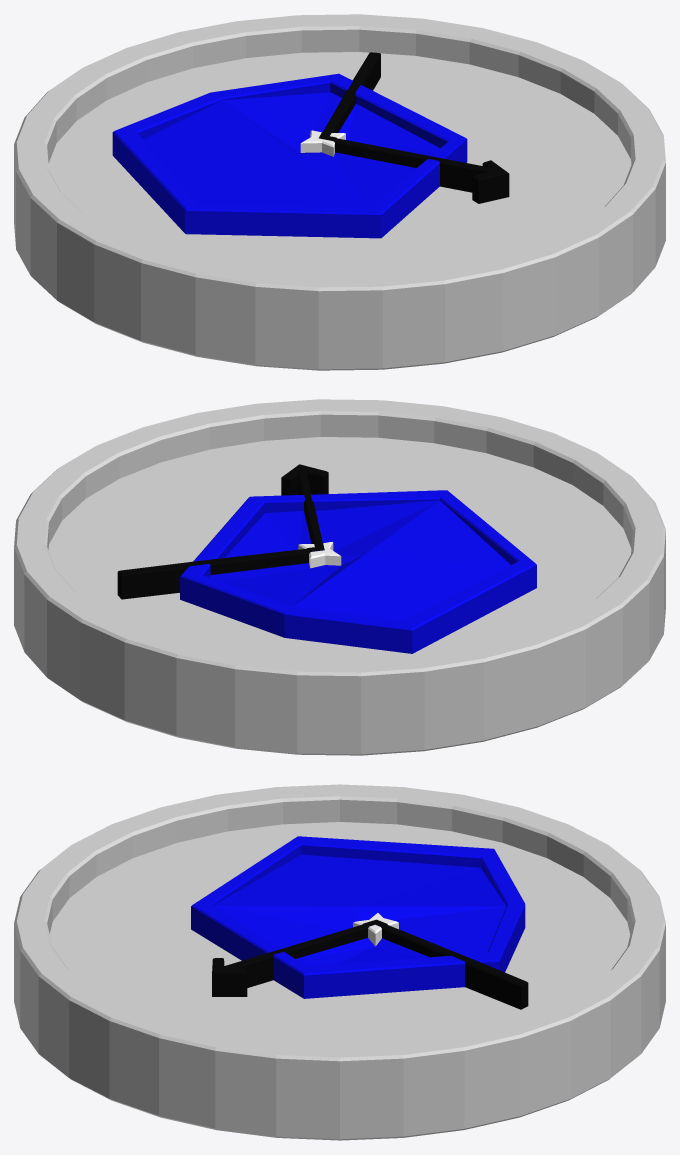
File: PercentImmuneCoin.fbx
3 views of the same model, one above another, from view 1: azimuth 30°, elevation 25°; view 2: azimuth 150°, elevation 25°; view 3: azimuth 270°, elevation 25° (orthographic).
Visible parts, largest first — view 1: Coin; view 2: Coin; view 3: Coin.
Part boxes in pixels (left/top/right/bottom): Coin: left=14, top=14, right=665, bottom=370; Coin: left=14, top=399, right=665, bottom=755; Coin: left=14, top=784, right=665, bottom=1140.
Size of the model in its own units: 200 by 28.06 by 200.
